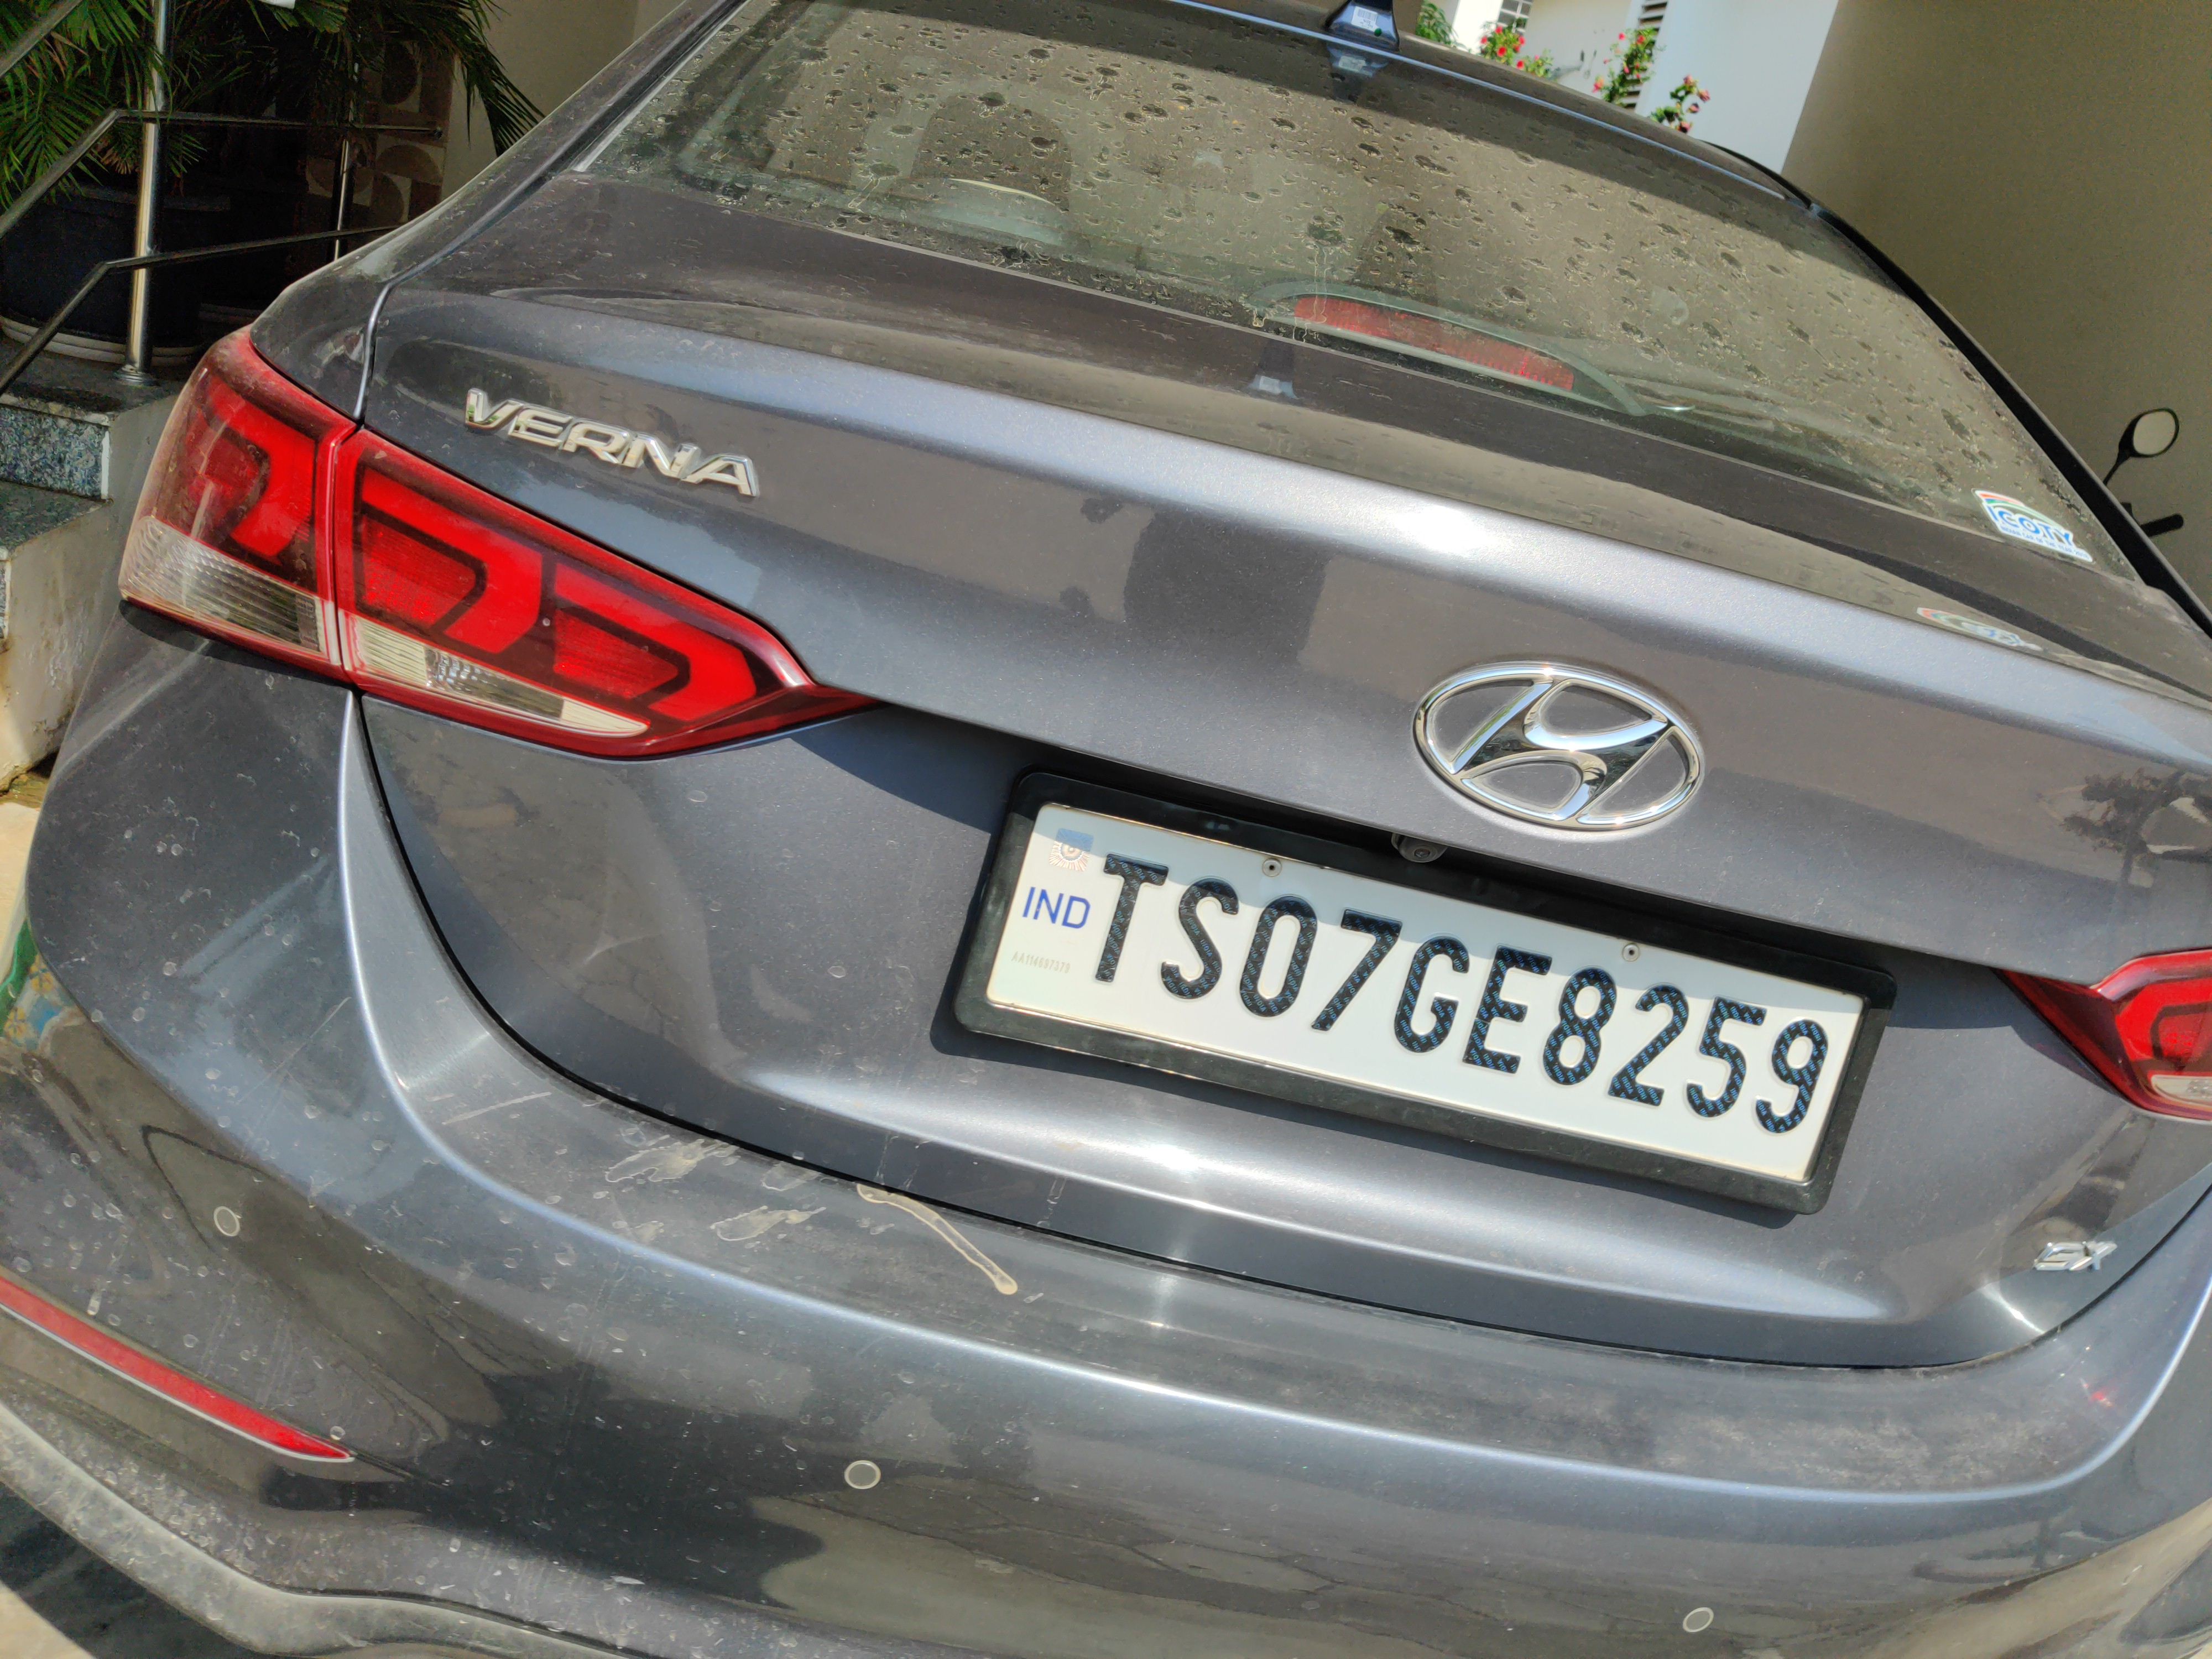plate: (922, 744, 1903, 1241)
